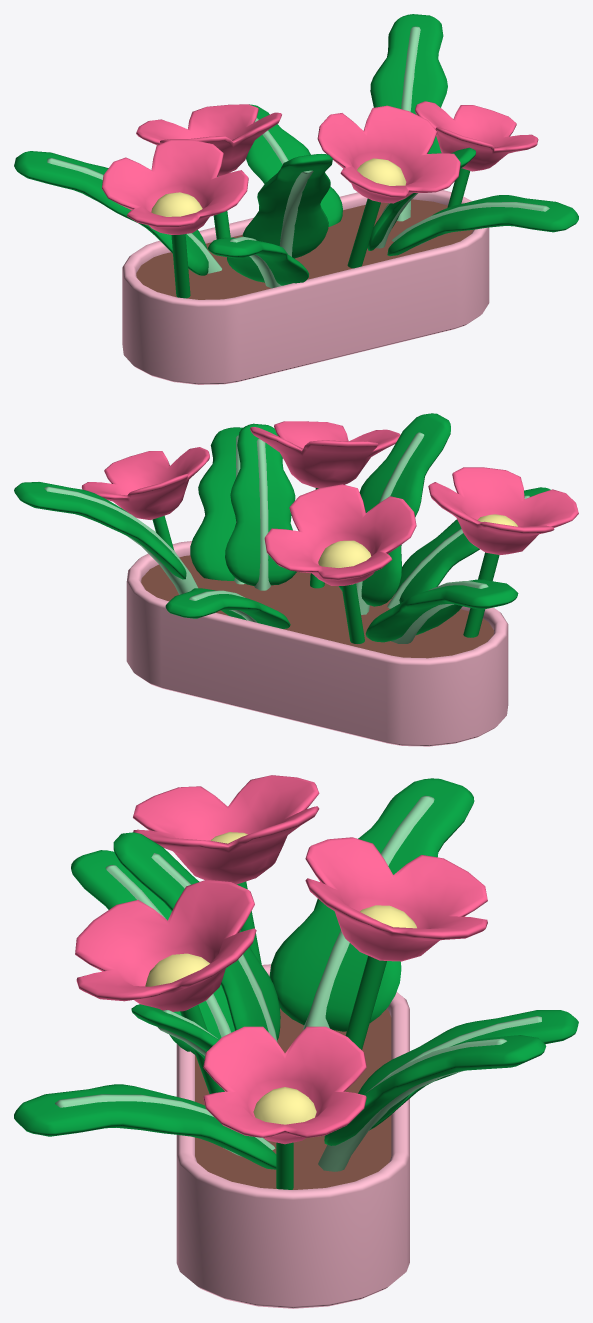
File: Town_17_Vase_With_Flowers_4.glb
3 views of the same model, one above another, from view 1: azimuth 30°, elevation 25°; view 2: azimuth 150°, elevation 25°; view 3: azimuth 270°, elevation 25° (orthographic). The views are drawn at different scales.
Visible parts, largest first — view 1: Town_17_Vase_With_Flowers_4; view 2: Town_17_Vase_With_Flowers_4; view 3: Town_17_Vase_With_Flowers_4.
Boxes of the visible parts, <box> form: Town_17_Vase_With_Flowers_4: <box>14,14,578,384</box>; Town_17_Vase_With_Flowers_4: <box>14,413,578,746</box>; Town_17_Vase_With_Flowers_4: <box>14,775,578,1308</box>.
Bounding box in the file's own units: 1.36 × 0.6532 × 1.05.
Materials: 1 (1 with a texture image).
